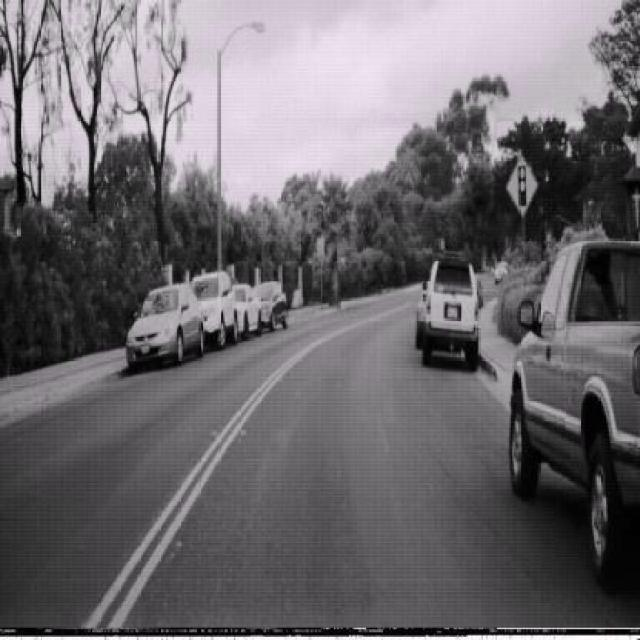signalAhead: (506, 152, 539, 218)
